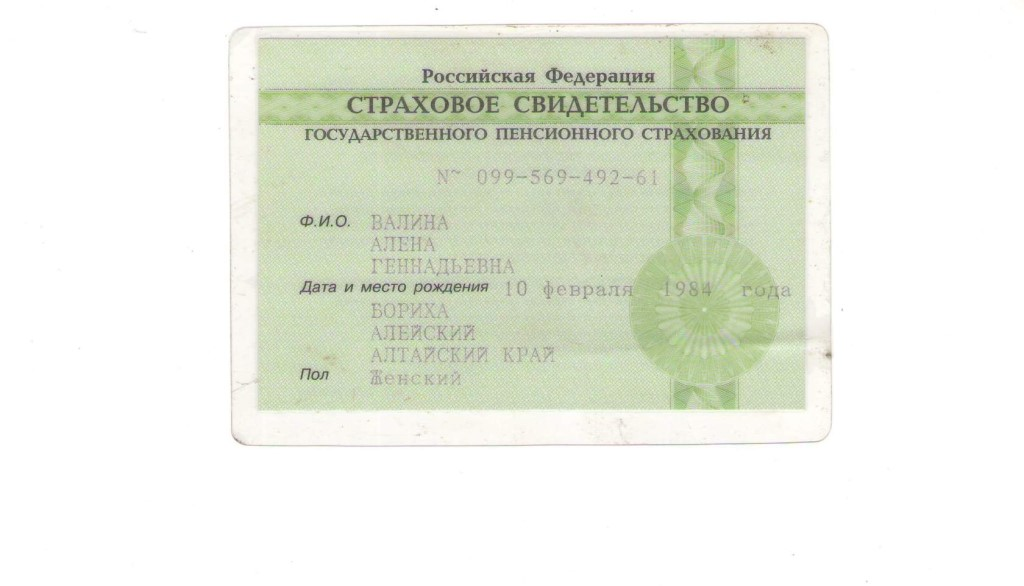text: (367, 299, 561, 368), (502, 277, 794, 301), (469, 164, 663, 187), (366, 256, 521, 277), (361, 364, 473, 390), (371, 211, 451, 234), (360, 232, 439, 254)
